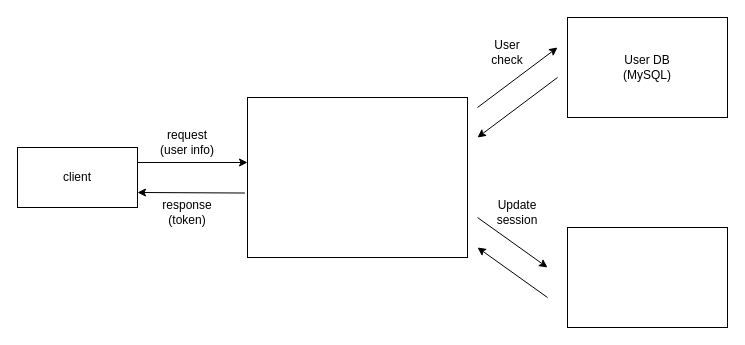
This 745x345 diagram has some shape labels left out. The shapes that lost their labels are listed below. From the top down, each one's centre as x and y in pixels, then its label:
At point 357,177: "my-stream-auth".
At point 647,277: "Session DB (Redis)".
